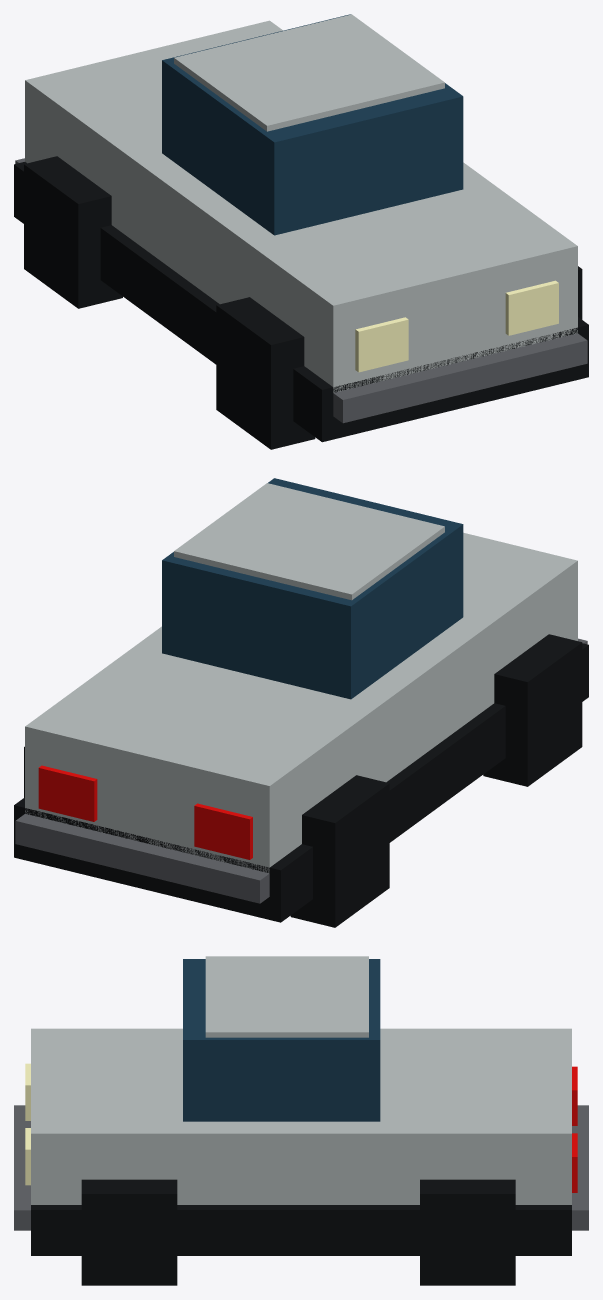
File: car.obj
3 views of the same model, one above another, from view 1: azimuth 30°, elevation 25°; view 2: azimuth 150°, elevation 25°; view 3: azimuth 270°, elevation 25° (orthographic). The views are drawn at different scales.
Visible parts, largest first — view 1: body, cabin, roof, chassis, wheel_front_left, wheel_back_left, bumper_front, head_left, head_right; view 2: body, cabin, roof, chassis, wheel_front_left, wheel_back_left, bumper_rear, tail_right, tail_left; view 3: body, cabin, chassis, roof, wheel_front_right, wheel_back_right, bumper_front, bumper_rear.
Part boxes in pixels (box(x1,y1,x2,y2)): body: box(25, 20, 577, 392); cabin: box(162, 14, 463, 235); roof: box(174, 14, 444, 131); chassis: box(14, 162, 588, 442); wheel_front_left: box(216, 297, 315, 449); wheel_back_left: box(24, 156, 122, 308); bumper_front: box(333, 333, 587, 423); head_left: box(355, 317, 408, 372); head_right: box(505, 280, 558, 335); body: box(25, 532, 577, 872); cabin: box(162, 478, 463, 699); roof: box(174, 483, 444, 600); chassis: box(14, 643, 588, 922); wheel_front_left: box(483, 634, 582, 786); wheel_back_left: box(290, 775, 389, 927); bumper_rear: box(15, 814, 269, 903); tail_right: box(38, 765, 97, 821); tail_left: box(194, 803, 252, 859); body: box(31, 1028, 571, 1204); cabin: box(183, 959, 380, 1121); chassis: box(31, 1205, 571, 1255); roof: box(205, 956, 368, 1037); wheel_front_right: box(81, 1179, 177, 1285); wheel_back_right: box(420, 1179, 515, 1285); bumper_front: box(14, 1105, 30, 1230); bumper_rear: box(572, 1105, 588, 1230).
Bounding box in the file's own units: 56 × 44 × 102.
